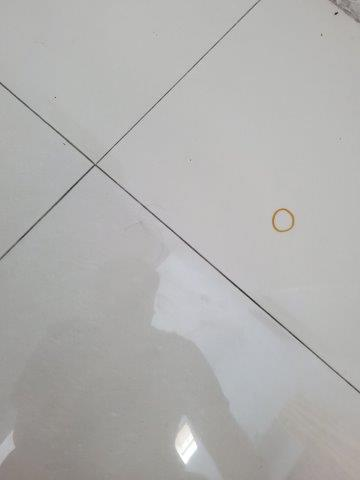karet: (271, 207, 295, 233)
